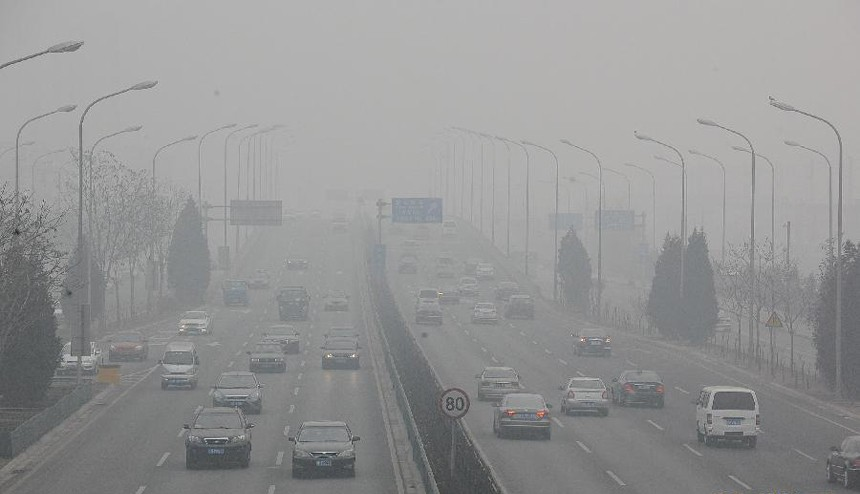car: (181, 407, 255, 467), (696, 386, 760, 449), (288, 420, 359, 476), (492, 392, 551, 439), (209, 371, 264, 413), (613, 370, 666, 407), (561, 376, 610, 416), (824, 433, 859, 487), (160, 338, 199, 383), (475, 366, 522, 403), (58, 339, 97, 374), (102, 330, 146, 361), (573, 327, 613, 356), (322, 337, 359, 365), (248, 347, 287, 373), (177, 310, 211, 335), (268, 325, 297, 349), (470, 299, 496, 323), (504, 294, 531, 317), (323, 290, 350, 311), (415, 304, 443, 324), (324, 327, 358, 343), (416, 286, 437, 309), (398, 253, 417, 274), (285, 254, 309, 270), (458, 278, 479, 296), (249, 269, 267, 288), (440, 220, 459, 237), (441, 288, 459, 305)
truck: (276, 286, 311, 319), (220, 277, 251, 308)
